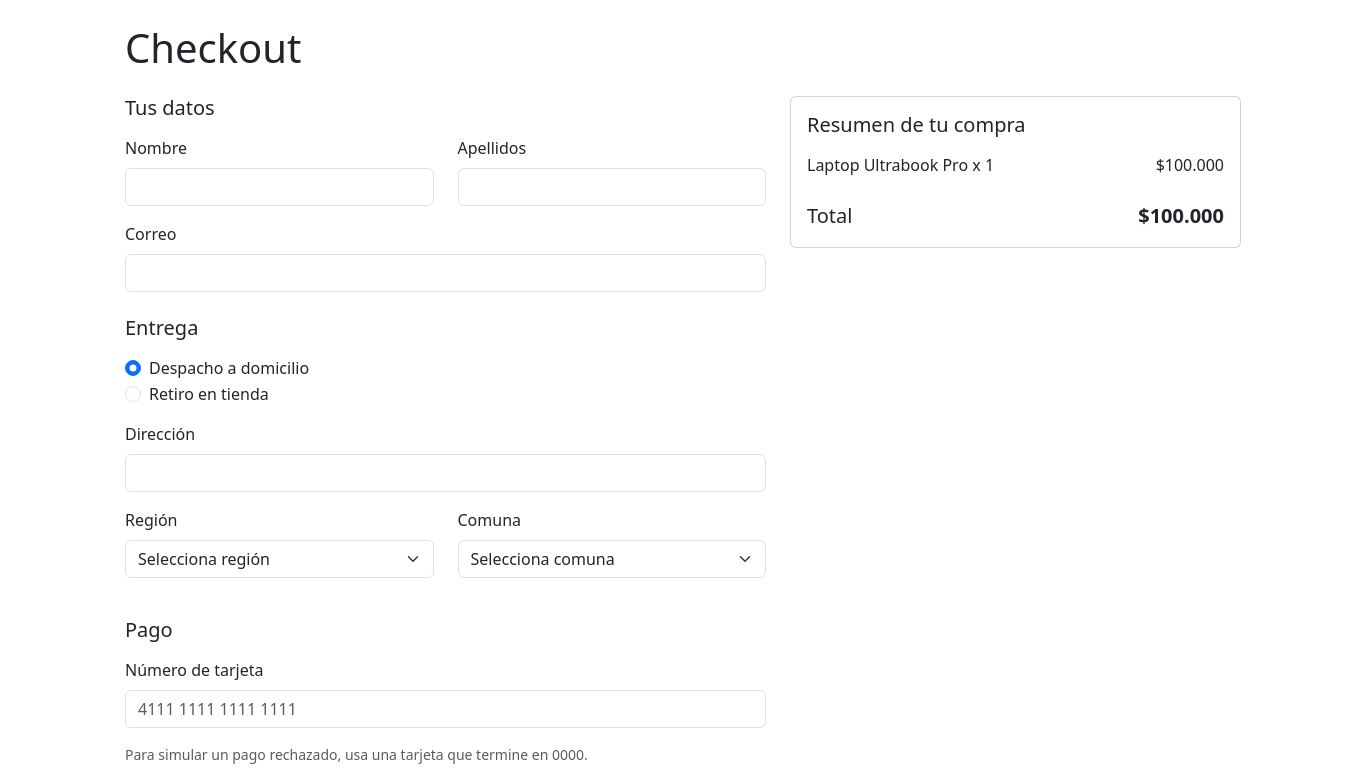
Checkout › rechaza una tarjeta terminada en 0000 y conserva el carrito
The image size is (1366, 768).
Type "Ana" into the field labelled "Nombre" at (279, 187), box [125,168,434,206]
Type "Pérez" into the field labelled "Apellidos" at (612, 187), box [458,168,766,206]
Type "ana@correo.cl" into the field labelled "Correo" at (446, 273), box [125,254,766,292]
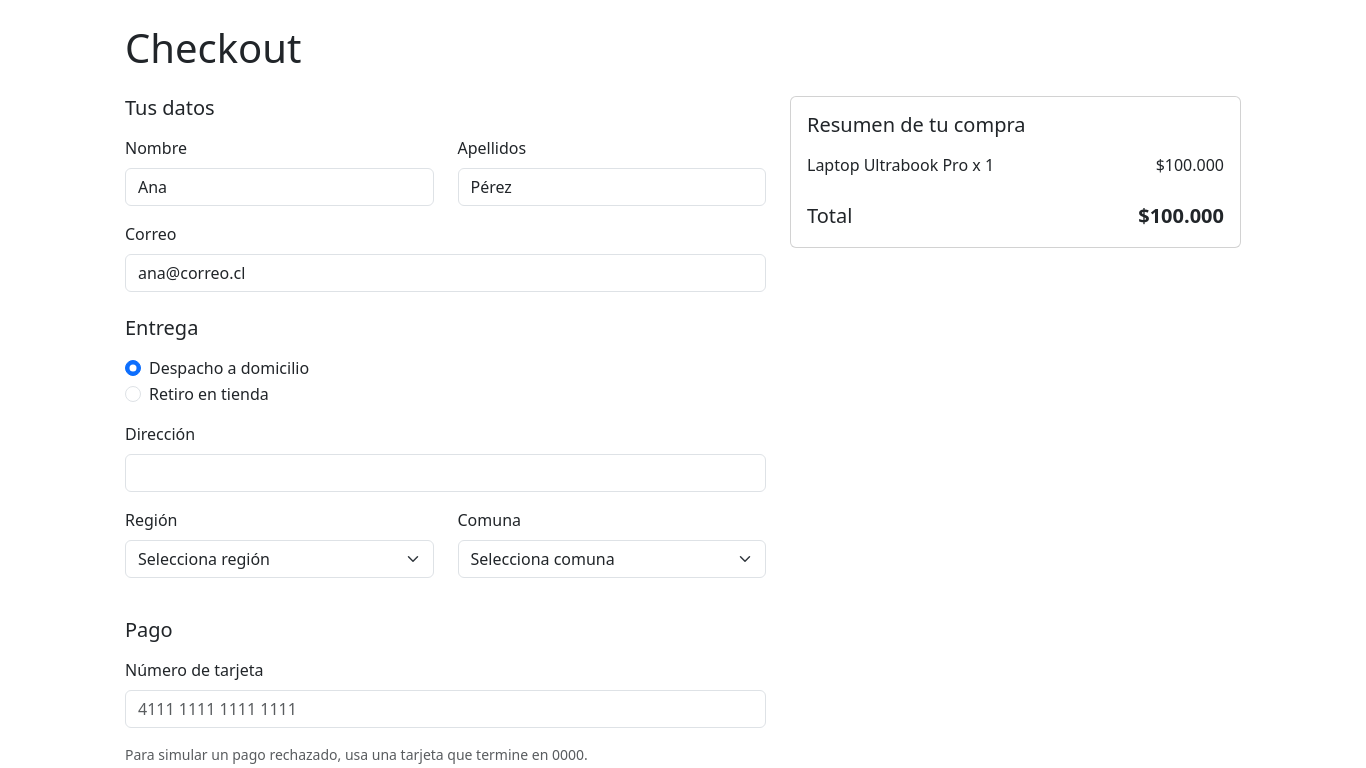
Type "Av. Siempre Viva 123" into the field labelled "Dirección" at (446, 473), box [125,454,766,492]
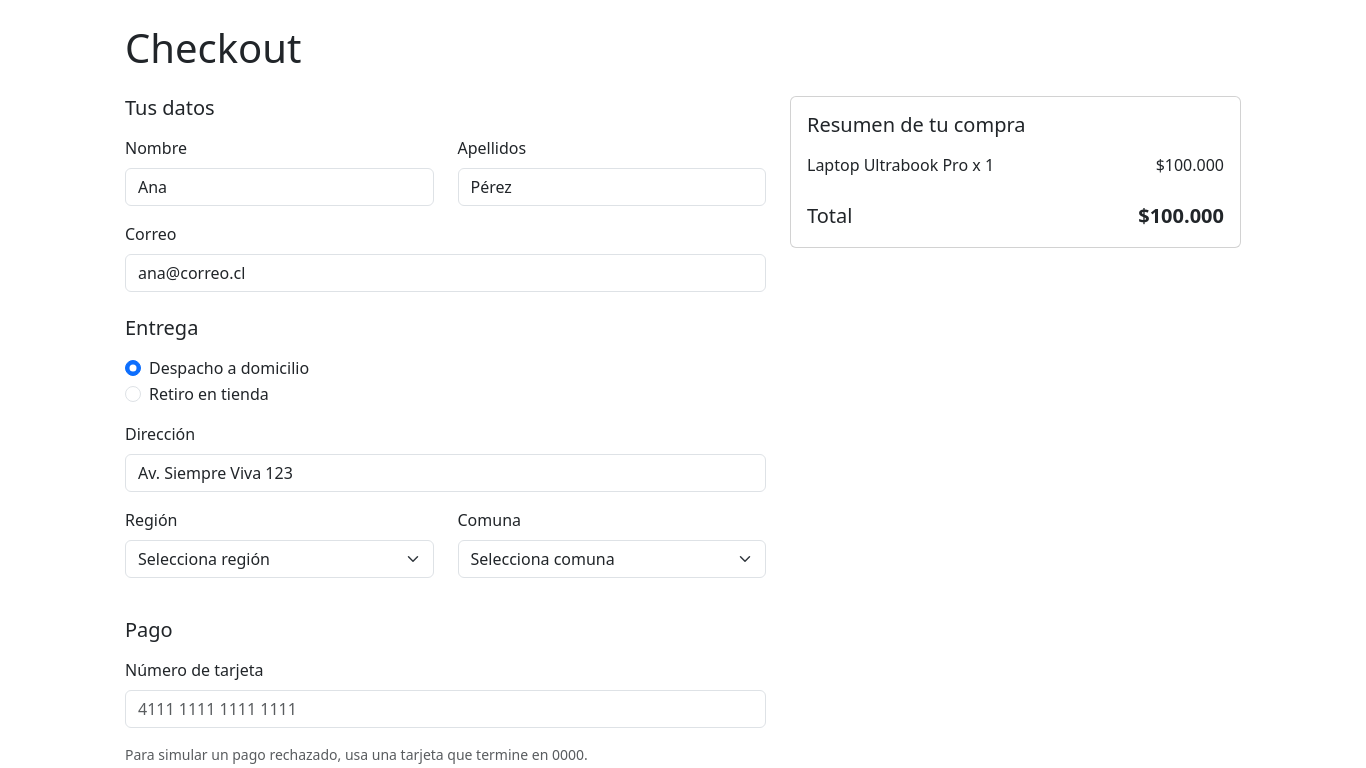
Select "Región Metropolitana de Santiago" in the dropdown labelled "Región" at (279, 559), box [125,540,434,578]
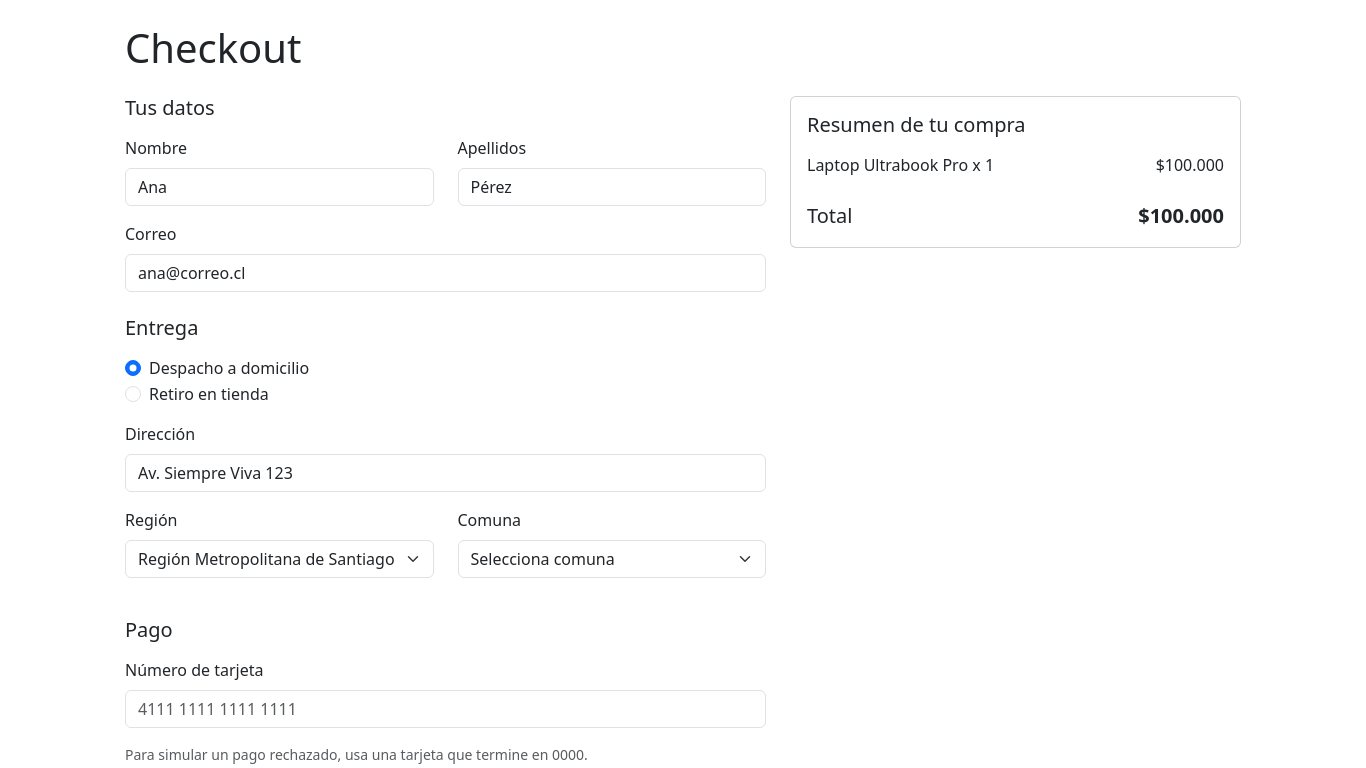
Select "Santiago" in the dropdown labelled "Comuna" at (612, 559), box [458,540,766,578]
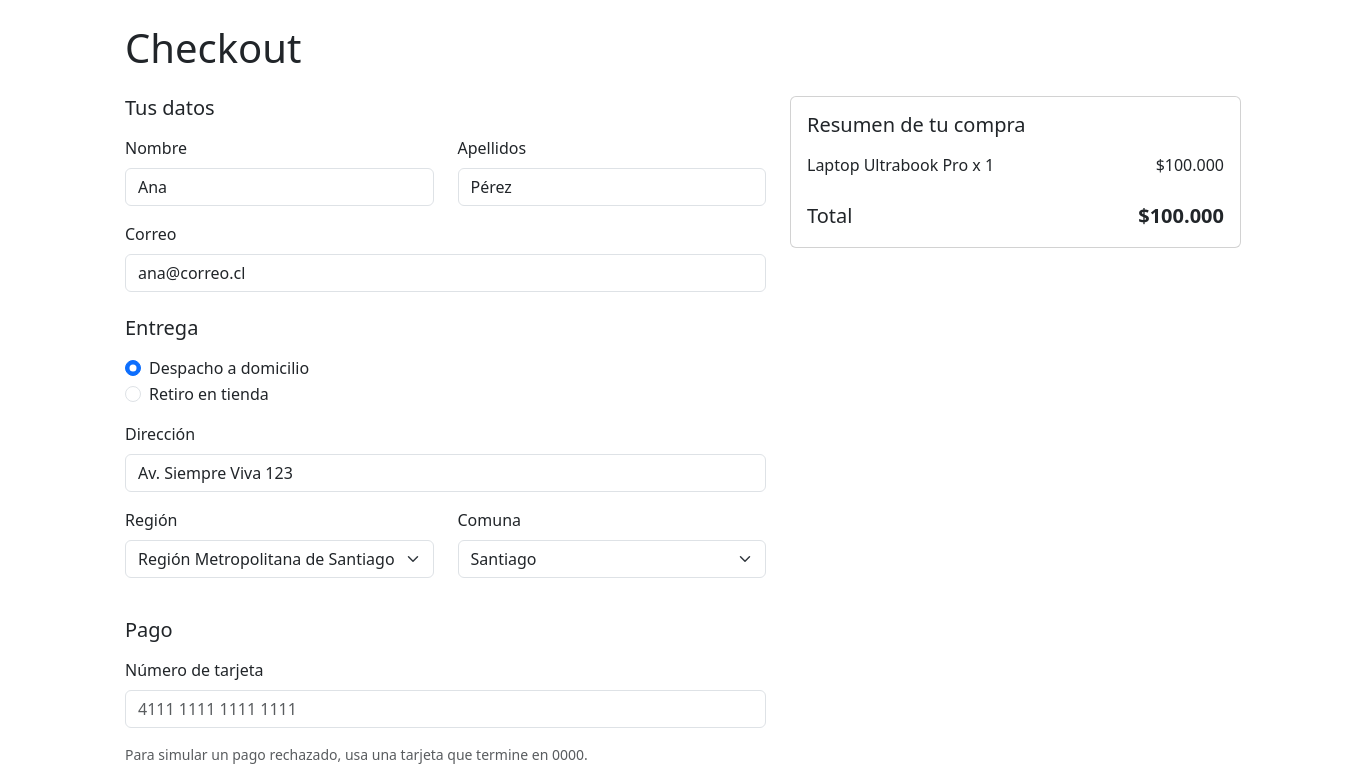
Type "4111 1111 1111 0000" into the field labelled "Número de tarjeta" at (446, 709), box [125,690,766,728]
(page scrolled)
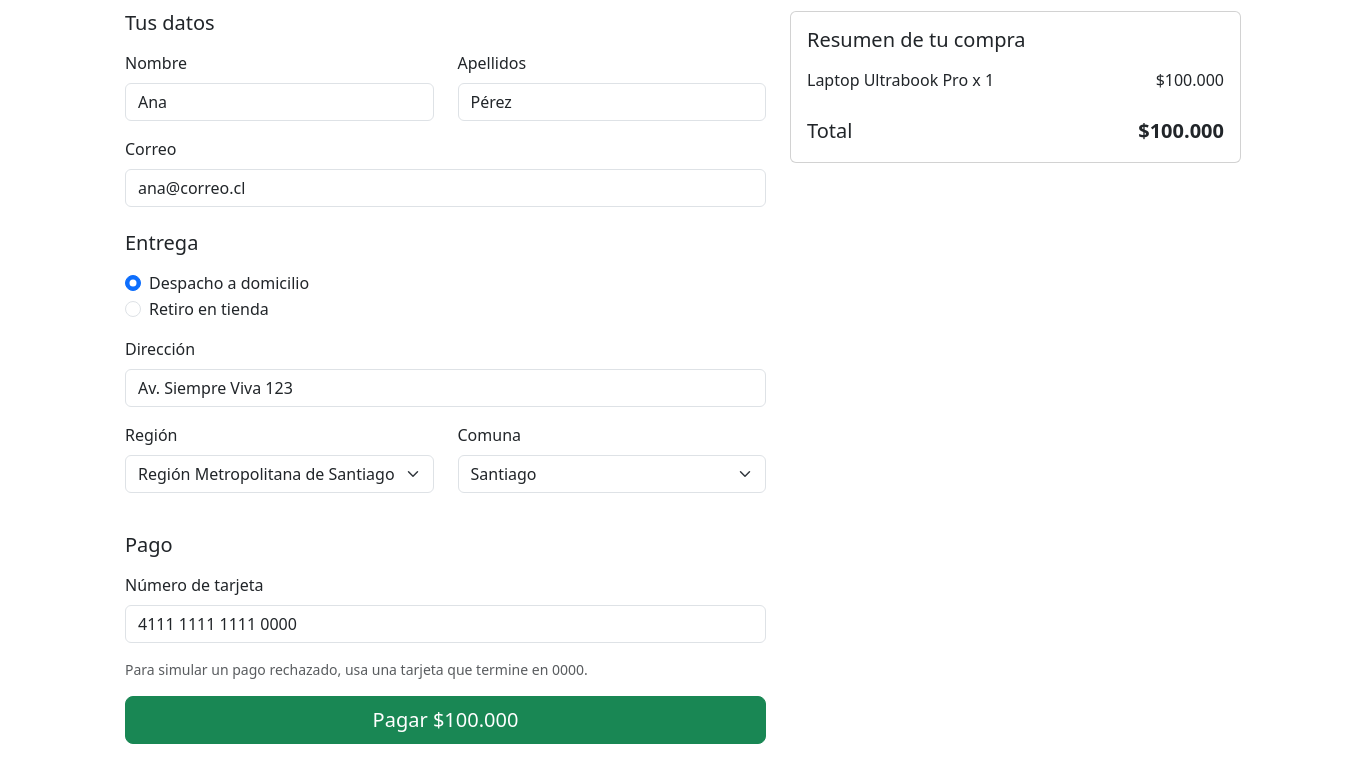
Click the button "Pagar $100.000" at (446, 720), box [125,696,766,744]
(page scrolled)
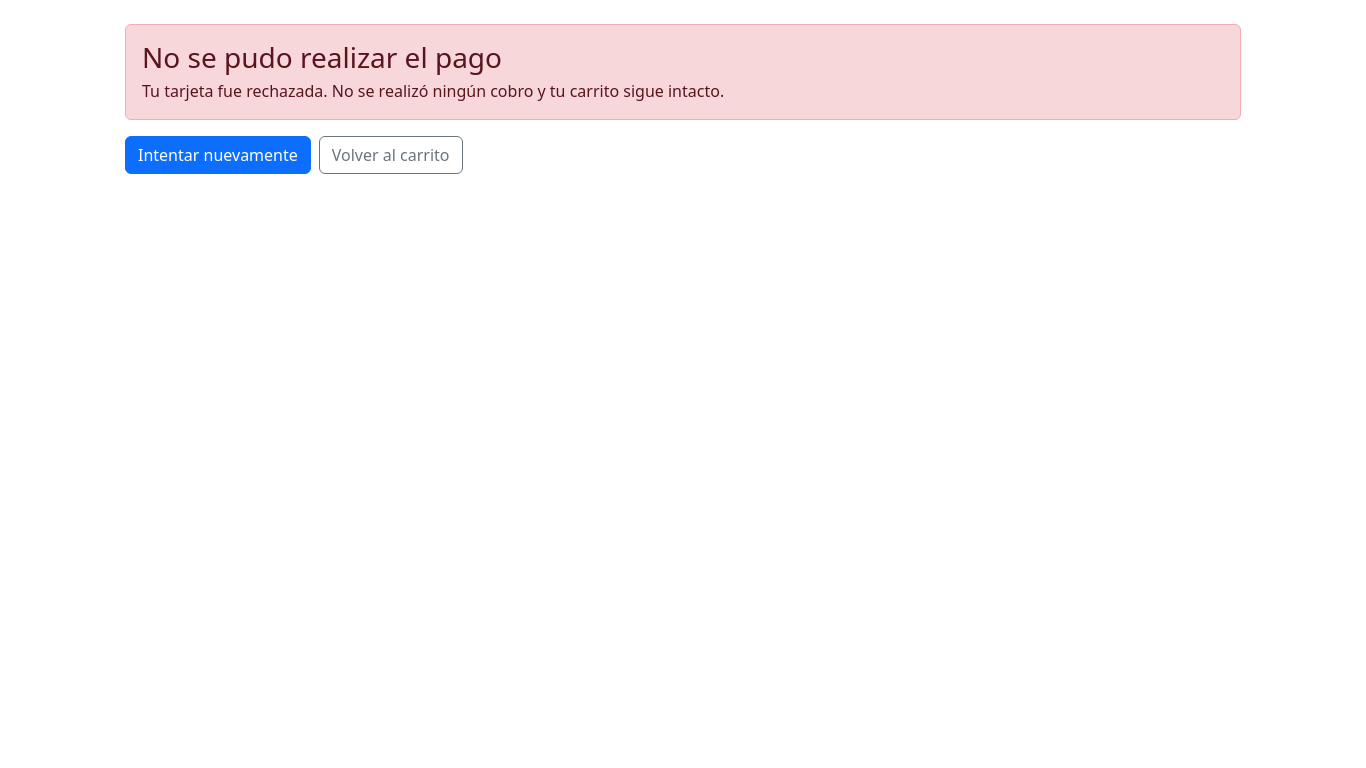
Now the heading "No se pudo realizar el pago" is shown, box [142,38,502,76]
